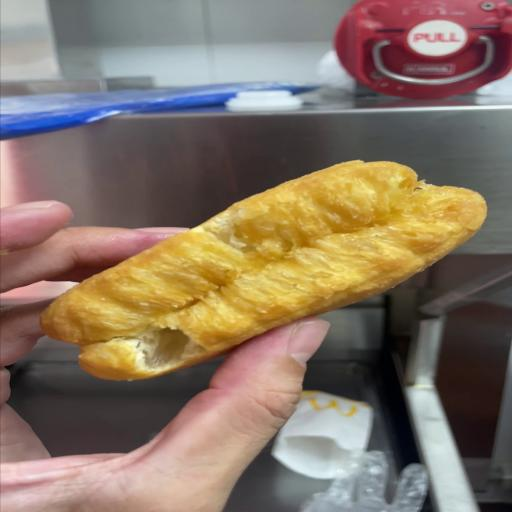brand_golden_defect: (42, 161, 485, 380)
